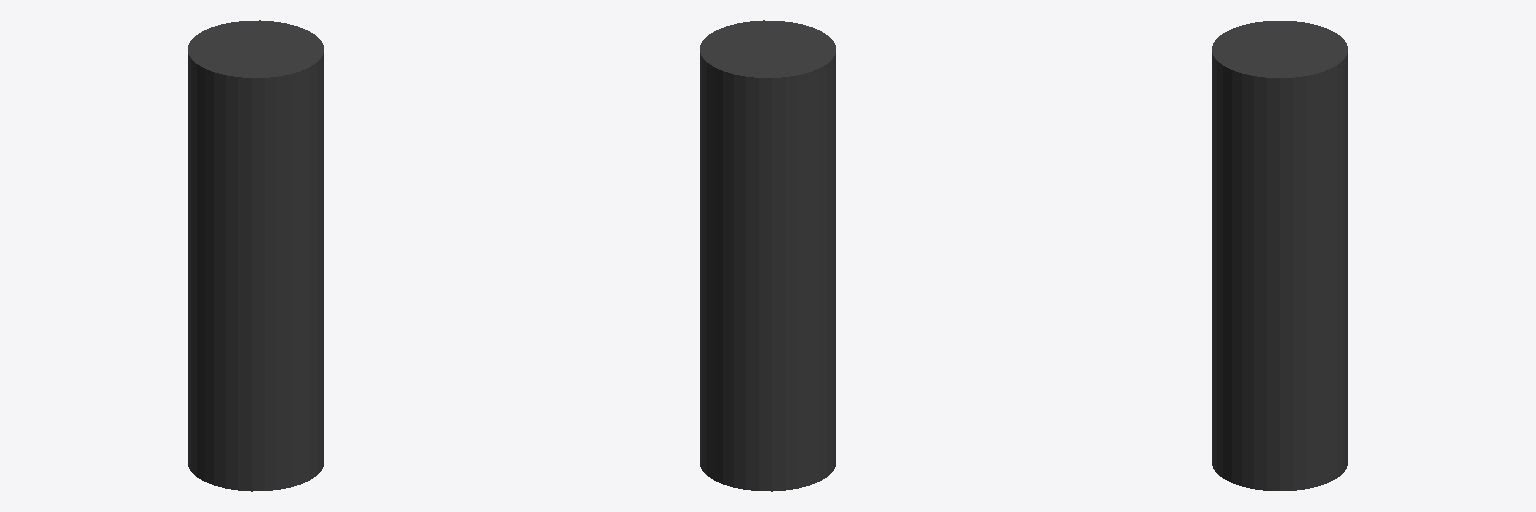
robot.urdf — bravo_7_example:
<?xml version="1.0" encoding="utf-8"?>
<!-- =================================================================================== -->
<!-- |    This document was autogenerated by xacro from bravo_7_example.urdf.xacro     | -->
<!-- |    EDITING THIS FILE BY HAND IS NOT RECOMMENDED                                 | -->
<!-- =================================================================================== -->
<robot name="bravo_7_example">
  <link name="base_link"/>
  <joint name="bravo_joint" type="fixed">
    <origin rpy="0 0 0" xyz="0 0 0"/>
    <parent link="base_link"/>
    <child link="bravo_base_link"/>
    <origin rpy="0 0 0" xyz="0 0 0"/>
  </joint>
  <material name="bravo_black">
    <color rgba="0.3 0.3 0.3 1"/>
  </material>
  <link name="bravo_base_link">
    <visual>
      <geometry>
        <mesh filename="package://bpl_bravo_description/meshes/RS2-1019_base.stl"/>
      </geometry>
      <material name="bravo_black"/>
    </visual>
    <collision>
      <geometry>
        <box size="0.0725 0.1112 0.083"/>
      </geometry>
      <origin rpy="0 0 0" xyz="0.03625 00 0.0415"/>
    </collision>
    <collision>
      <geometry>
        <box size="0.050 0.080 0.060"/>
      </geometry>
      <origin rpy="0 0 0" xyz="0.025 -0.04556 0.03"/>
    </collision>
    <collision>
      <geometry>
        <cylinder length="0.083" radius="0.046"/>
      </geometry>
      <origin rpy="0 0 0" xyz="0.0665 0 0.0415"/>
    </collision>
  </link>
  <joint name="bravo_axis_g" type="revolute">
    <parent link="bravo_base_link"/>
    <origin rpy="0 0 3.14159" xyz="0.0665 0 0.08"/>
    <axis xyz="0 0 -1"/>
    <child link="bravo_1019_end_link"/>
    <limit effort="0" lower="0.0" upper="6.3" velocity="0.01"/>
  </joint>
  <link name="bravo_1019_end_link">
    <visual>
      <geometry>
        <mesh filename="package://bpl_bravo_description/meshes/RS2-1019_end.stl"/>
      </geometry>
      <material name="bravo_black"/>
    </visual>
  </link>
  <joint name="bravo_f_base_joint" type="fixed">
    <parent link="bravo_1019_end_link"/>
    <origin rpy="0 0 0" xyz="0 0 0"/>
    <child link="bravo_1013_base_link"/>
  </joint>
  <link name="bravo_1013_base_link">
    <visual>
      <geometry>
        <mesh filename="package://bpl_bravo_description/meshes/RS2-1013_base.stl"/>
      </geometry>
      <material name="bravo_black"/>
    </visual>
    <collision>
      <geometry>
        <cylinder length="0.030" radius="0.046"/>
      </geometry>
      <origin rpy="0 0 0" xyz="0.0 00 0.015"/>
    </collision>
    <collision>
      <geometry>
        <cylinder length="0.1" radius="0.046"/>
      </geometry>
      <origin rpy="1.5707 0 0 " xyz="0.048 00 0.0642"/>
    </collision>
  </link>
  <joint name="bravo_axis_f" type="revolute">
    <parent link="bravo_1013_base_link"/>
    <origin rpy="0 0 0" xyz="0.046 0 0.0642"/>
    <axis xyz="0 -1 0"/>
    <child link="bravo_1013_joint_link"/>
    <limit effort="0" lower="0.0" upper="3.2" velocity="0.01"/>
  </joint>
  <link name="bravo_1013_joint_link">
    <visual>
      <geometry>
        <mesh filename="package://bpl_bravo_description/meshes/RS2-1013_end.stl"/>
      </geometry>
      <material name="bravo_black"/>
    </visual>
    <collision>
      <geometry>
        <cylinder length="0.03" radius="0.046"/>
      </geometry>
      <origin rpy="0 0 0" xyz="0.046 0 -0.03555"/>
    </collision>
  </link>
  <joint name="bravo_1013_end_joint" type="fixed">
    <parent link="bravo_1013_joint_link"/>
    <origin rpy="3.14159 0 3.14159" xyz="0.046 0 -0.05055"/>
    <child link="bravo_1013_end_link"/>
  </joint>
  <link name="bravo_1013_end_link"/>
  <joint name="bravo_e_base_joint" type="fixed">
    <parent link="bravo_1013_end_link"/>
    <origin rpy="0 0 0" xyz="0 0 0.182"/>
    <child link="bravo_1026_0_base_link"/>
  </joint>
  <link name="bravo_1026_0_base_link">
    <visual>
      <geometry>
        <mesh filename="package://bpl_bravo_description/meshes/RS2-1026_0_base.stl"/>
      </geometry>
      <material name="bravo_black"/>
    </visual>
    <collision>
      <geometry>
        <cylinder length="0.03" radius="0.0408"/>
      </geometry>
      <origin rpy="0 0 0" xyz="0 00 0.015"/>
    </collision>
    <collision>
      <geometry>
        <cylinder length="0.0816" radius="0.0408"/>
      </geometry>
      <origin rpy="1.5707 0 0" xyz="0.0408 00 0.0578"/>
    </collision>
  </link>
  <joint name="bravo_axis_e" type="revolute">
    <parent link="bravo_1026_0_base_link"/>
    <origin rpy="0 0 0" xyz="0.042 0 0.0578"/>
    <axis xyz="0 -1 0"/>
    <child link="bravo_1026_0_joint_link"/>
    <limit effort="0" lower="0.0" upper="3.2" velocity="0.01"/>
  </joint>
  <link name="bravo_1026_0_joint_link">
    <visual>
      <geometry>
        <mesh filename="package://bpl_bravo_description/meshes/RS2-1026_0_end.stl"/>
      </geometry>
      <material name="bravo_black"/>
    </visual>
    <collision>
      <geometry>
        <cylinder length="0.080" radius="0.0408"/>
      </geometry>
      <origin rpy="0 0 0" xyz="0.0408 0 -0.05385"/>
    </collision>
  </link>
  <joint name="bravo_1026_0_end_joint" type="fixed">
    <parent link="bravo_1026_0_joint_link"/>
    <origin rpy="3.14159 0 0" xyz="0.0408 0 -0.09385"/>
    <child link="bravo_1026_0_end_link"/>
  </joint>
  <link name="bravo_1026_0_end_link"/>
  <joint name="bravo_d_base_joint" type="fixed">
    <parent link="bravo_1026_0_end_link"/>
    <origin rpy="0 0 0" xyz="0 0 0"/>
    <child link="bravo_1026_1_base_link"/>
  </joint>
  <link name="bravo_1026_1_base_link">
        </link>
  <joint name="bravo_axis_d" type="continuous">
    <parent link="bravo_1026_1_base_link"/>
    <origin rpy="0 0 0" xyz="0 0 0.0005"/>
    <axis xyz="0 0 -1"/>
    <child link="bravo_1026_1_joint_link"/>
<!--    <limit effort="0" lower="0" upper="6.2" velocity="0"/>-->
  </joint>
  <link name="bravo_1026_1_joint_link">
    <visual>
      <geometry>
        <mesh filename="package://bpl_bravo_description/meshes/RS2-1026_1_end.stl"/>
      </geometry>
      <material name="bravo_black"/>
      <origin rpy="0 0 3.14159" xyz="0 0 0 "/>
    </visual>
    <collision>
      <geometry>
        <cylinder length="0.0056" radius="0.0408"/>
      </geometry>
      <origin rpy="0 0 3.14159" xyz="0 0 0.0028"/>
    </collision>
  </link>
  <joint name="bravo_1026_1_end_joint" type="fixed">
    <parent link="bravo_1026_1_joint_link"/>
    <origin rpy="0 0 3.14159" xyz="0 0 0.0056"/>
    <child link="bravo_1026_1_end_link"/>
  </joint>
  <link name="bravo_1026_1_end_link"/>
  <joint name="bravo_c_base_joint" type="fixed">
    <parent link="bravo_1026_1_end_link"/>
    <origin rpy="0 0 0" xyz="0 0 0.0"/>
    <child link="bravo_1023_0_base_link"/>
  </joint>
  <link name="bravo_1023_0_base_link">
    <visual>
      <geometry>
        <mesh filename="package://bpl_bravo_description/meshes/RS2-1023_0_base.stl"/>
      </geometry>
      <material name="bravo_black"/>
    </visual>
    <collision>
      <geometry>
        <cylinder length="0.03" radius="0.0408"/>
      </geometry>
      <origin rpy="0 0 0" xyz="0 00 0.015"/>
    </collision>
    <collision>
      <geometry>
        <cylinder length="0.0816" radius="0.0408"/>
      </geometry>
      <origin rpy="1.5707 0 0" xyz="0.0408 00 0.0578"/>
    </collision>
  </link>
  <joint name="bravo_axis_c" type="revolute">
    <parent link="bravo_1023_0_base_link"/>
    <origin rpy="0 0 0" xyz="0.042 0 0.0578"/>
    <axis xyz="0 -1 0"/>
    <child link="bravo_1023_0_joint_link"/>
    <limit effort="0" lower="0.0" upper="3.2" velocity="0.01"/>
  </joint>
  <link name="bravo_1023_0_joint_link">
    <visual>
      <geometry>
        <mesh filename="package://bpl_bravo_description/meshes/RS2-1023_0_end.stl"/>
      </geometry>
      <material name="bravo_black"/>
    </visual>
    <collision>
      <geometry>
        <cylinder length="0.080" radius="0.0408"/>
      </geometry>
      <origin rpy="0 0 0" xyz="0.0408 0 -0.05385"/>
    </collision>
  </link>
  <joint name="bravo_1023_0_end_joint" type="fixed">
    <parent link="bravo_1023_0_joint_link"/>
    <origin rpy="3.14159 0 0" xyz="0.0408 0 -0.09385"/>
    <child link="bravo_1023_0_end_link"/>
  </joint>
  <link name="bravo_1023_0_end_link"/>
  <joint name="bravo_b_base_joint" type="fixed">
    <parent link="bravo_1023_0_end_link"/>
    <origin rpy="0 0 0" xyz="0 0 0"/>
    <child link="bravo_1023_1_base_link"/>
  </joint>
  <link name="bravo_1023_1_base_link">
        </link>
  <joint name="bravo_axis_b" type="continuous">
    <parent link="bravo_1023_1_base_link"/>
    <origin rpy="0 0 0" xyz="0 0 0.0005"/>
    <axis xyz="0 0 -1"/>
    <child link="bravo_1023_1_joint_link"/>
    <!--            <limit effort="0" velocity="0" lower="0.0" upper="0.0" />-->
  </joint>
  <link name="bravo_1023_1_joint_link">
    <visual>
      <geometry>
        <mesh filename="package://bpl_bravo_description/meshes/RS2-1023_1_end.stl"/>
      </geometry>
      <material name="bravo_black"/>
    </visual>
    <collision>
      <geometry>
        <cylinder length="0.0056" radius="0.0408"/>
      </geometry>
      <origin rpy="0 0 0" xyz="0 0 0.0028"/>
    </collision>
  </link>
  <joint name="bravo_1023_1_end_joint" type="fixed">
    <parent link="bravo_1023_1_joint_link"/>
    <origin rpy="0 0 -1.5707" xyz="0 0 0.0056"/>
    <child link="bravo_1023_1_end_link"/>
  </joint>
  <link name="bravo_1023_1_end_link"/>
  <joint name="bravo_a_base_joint" type="fixed">
    <parent link="bravo_1023_1_end_link"/>
    <origin rpy="0 0 0" xyz="0 0 0"/>
    <child link="bravo_1028_base_link"/>
  </joint>
  <link name="bravo_1028_base_link">
    <visual>
      <geometry>
        <mesh filename="package://bpl_bravo_description/meshes/RS2-1028.stl"/>
      </geometry>
      <material name="bravo_black"/>
    </visual>
    <collision>
      <geometry>
        <cylinder length="0.120" radius="0.0408"/>
      </geometry>
      <origin rpy="0 0 0" xyz="0 0 0.06"/>
    </collision>
  </link>
  <joint name="bravo_1028_end_joint" type="fixed">
    <parent link="bravo_1028_base_link"/>
    <origin rpy="-1.5707 -1.5707 0" xyz="0 0 0.120"/>
    <child link="bravo_1028_end_link"/>
  </joint>
  <link name="bravo_1028_end_link"/>
  <joint name="bravo_jaws_joint" type="fixed">
    <origin rpy="0 0 0" xyz=" 0 0 0.0"/>
    <parent link="bravo_1028_end_link"/>
    <child link="bravo_jaws_base_link"/>
  </joint>
  <link name="bravo_jaws_base_link">
    <!--        <visual>-->
    <!--            <geometry>-->
    <!--                <mesh filename="package://bpl_bravo_description/meshes/end_effectors/RS2-257.stl"/>-->
    <!--            </geometry>-->
    <!--            <material name="bravo_jaws_black"/>-->
    <!--            </visual>-->
  </link>
  <link name="bravo_push_rod"/>
  <joint name="bravo_axis_a" type="prismatic">
    <origin rpy="0 0 0" xyz="0 0 0.009"/>
    <parent link="bravo_jaws_base_link"/>
    <child link="bravo_push_rod"/>
    <axis xyz="0 0 1"/>
    <limit effort="10" lower="0" upper="0.035" velocity="10"/>
  </joint>
  <link name="bravo_1030_base_link">
    <visual>
      <geometry>
        <mesh filename="package://bpl_bravo_description/meshes/RS2-1030.stl"/>
      </geometry>
      <material name="bravo_black"/>
    </visual>
    <collision>
      <geometry>
        <cylinder length="0.03033333" radius="0.046"/>
      </geometry>
      <origin rpy="0 0 0" xyz="0 0 0.01516666"/>
    </collision>
    <collision>
      <geometry>
        <cylinder length="0.03033333" radius="0.045"/>
      </geometry>
      <origin rpy="0 0 0" xyz="0 0 0.0455"/>
    </collision>
    <collision>
      <geometry>
        <cylinder length="0.03033333" radius="0.044"/>
      </geometry>
      <origin rpy="0 0 0" xyz="0 0 0.075833333"/>
    </collision>
    <collision>
      <geometry>
        <cylinder length="0.03033333" radius="0.043"/>
      </geometry>
      <origin rpy="0 0 0" xyz="0 0 0.1061666666"/>
    </collision>
    <collision>
      <geometry>
        <cylinder length="0.03033333" radius="0.042"/>
      </geometry>
      <origin rpy="0 0 0" xyz="0 0 0.1365"/>
    </collision>
    <collision>
      <geometry>
        <cylinder length="0.03033333" radius="0.041"/>
      </geometry>
      <origin rpy="0 0 0" xyz="0 0 0.1668333"/>
    </collision>
  </link>
  <joint name="bravo_1030_base_joint" type="fixed">
    <parent link="bravo_1013_end_link"/>
    <child link="bravo_1030_base_link"/>
    <origin rpy="0 0 0" xyz="0 0 0"/>
  </joint>
  <material name="bravo_finger_jaws_black">
    <color rgba="0.3 0.3 0.3 1"/>
  </material>
  <joint name="bravo_finger_jaws_joint" type="fixed">
    <origin rpy="0 0 0" xyz="0 0 0"/>
    <parent link="bravo_jaws_base_link"/>
    <child link="bravo_finger_jaws_base_link"/>
    <origin rpy="0 0 0" xyz="0 0 0"/>
  </joint>
  <link name="bravo_finger_jaws_base_link">
    <visual>
      <geometry>
        <mesh filename="package://bpl_bravo_description/meshes/end_effectors/RS2-257.stl"/>
      </geometry>
      <material name="bravo_finger_jaws_black"/>
    </visual>
    <collision>
      <geometry>
        <cylinder length="0.02" radius="0.05"/>
      </geometry>
      <origin rpy="0 1.5707 0" xyz="0.01 0 0.00"/>
    </collision>
  </link>
  <link name="bravo_finger_jaws_rs2_300_link">
    <visual>
      <geometry>
        <mesh filename="package://bpl_bravo_description/meshes/end_effectors/RS2-300.stl"/>
      </geometry>
      <material name="bravo_finger_jaws_black"/>
    </visual>
    <collision>
      <geometry>
        <box size="0.14 0.04 0.045"/>
      </geometry>
      <origin rpy="0 0 0.35" xyz="0.07 0.025 0.00"/>
    </collision>
  </link>
  <joint name="bravo_finger_jaws_rs2_300_joint" type="revolute">
    <origin rpy="0 0 0" xyz="0.0097 -0.033 0"/>
    <parent link="bravo_finger_jaws_base_link"/>
    <child link="bravo_finger_jaws_rs2_300_link"/>
    <axis xyz="0 0 -1"/>
    <limit effort="10" lower="0" upper="1.0" velocity="10"/>
    <mimic joint="bravo_axis_a" multiplier="18" offset="0"/>
  </joint>
  <link name="bravo_finger_jaws_rs2_301_link">
    <visual>
      <geometry>
        <mesh filename="package://bpl_bravo_description/meshes/end_effectors/RS2-301.stl"/>
      </geometry>
      <material name="bravo_finger_jaws_black"/>
    </visual>
    <collision>
      <geometry>
        <box size="0.14 0.04 0.045"/>
      </geometry>
      <origin rpy="0 0 -0.35" xyz="0.07 -0.025 0.00"/>
    </collision>
  </link>
  <joint name="bravo_finger_jaws_rs2_301_joint" type="revolute">
    <origin rpy="0 0 0" xyz="0.0097 0.033 0"/>
    <parent link="bravo_finger_jaws_base_link"/>
    <child link="bravo_finger_jaws_rs2_301_link"/>
    <axis xyz="0 0 1"/>
    <limit effort="10" lower="0" upper="1.0" velocity="10"/>
    <mimic joint="bravo_finger_jaws_rs2_300_joint" multiplier="1" offset="0"/>
  </joint>


  <joint name="camera_joint" type="fixed">
      <parent link="bravo_1023_0_end_link"/>
        <origin xyz="0 0 0" rpy="0 0 0"/>
        <child link="camera_base_link"/>

  </joint>

  <link name="camera_base_link">
        <visual>
            <geometry>
                <cylinder radius="0.015" length="0.1"/>
            </geometry>
            <origin xyz="0.01326 0.05195 -0.035" rpy="0 0 0"/>
            <material name="bravo_black"/>
        </visual>
        <collision>
            <geometry>
                <cylinder radius="0.025" length="0.1"/>
            </geometry>
            <origin xyz="0.01326 0.05195 -0.030" rpy="0 0 0"/>
        </collision>
    </link>


    <joint name="camera_end_joint" type="fixed">
        <parent link="camera_base_link"/>
        <origin xyz="0.01326 0.05195 +0.02" rpy="3.14 0 0"/>
        <child link="camera_end_link"/>
    </joint>

  <link name="camera_end_link">

        <collision>
            <geometry>
                <cylinder radius="0.0001" length="0.0001"/>
            </geometry>
            <origin xyz="=0 0 -0.05" rpy="0 0 0"/>
        </collision>
  </link>

    <joint name="end_effector_joint" type="fixed">
        <parent link="bravo_1028_end_link"/>
        <origin xyz="0.10 0.00 0.00" rpy="0 0 0"/>
        <child link="end_effector_link"/>
    </joint>
  <link name="end_effector_link">
    <collision>
          <geometry>
              <cylinder radius="0.00001" length="0.01"/>
          </geometry>
          <origin xyz="=0 0 0" rpy="0 0 0"/>
        </collision>
  </link>
</robot>

--- Facts derived from the render (not from the file) ---
3 views of the same robot in one strip: view 1: azimuth 30°, elevation 25°; view 2: azimuth 150°, elevation 25°; view 3: azimuth 270°, elevation 25° (orthographic).
Robot: bravo_7_example — 29 links, 28 joints (6 revolute, 2 continuous, 1 prismatic, 19 fixed); root link base_link; default pose: all joints at 0.
Links seen in each view (by area): view 1: camera_base_link; view 2: camera_base_link; view 3: camera_base_link.
Boxes of the visible links, bbox=[...] form: camera_base_link: bbox=[188, 20, 323, 491]; camera_base_link: bbox=[700, 20, 835, 491]; camera_base_link: bbox=[1212, 21, 1347, 490].
Size in the robot's own frame: 0.03 by 0.03 by 0.1 metres.
0 mesh visuals loaded from 15 distinct referenced files (none loaded); not drawn: 15 (reference not matched to a file when rendering).